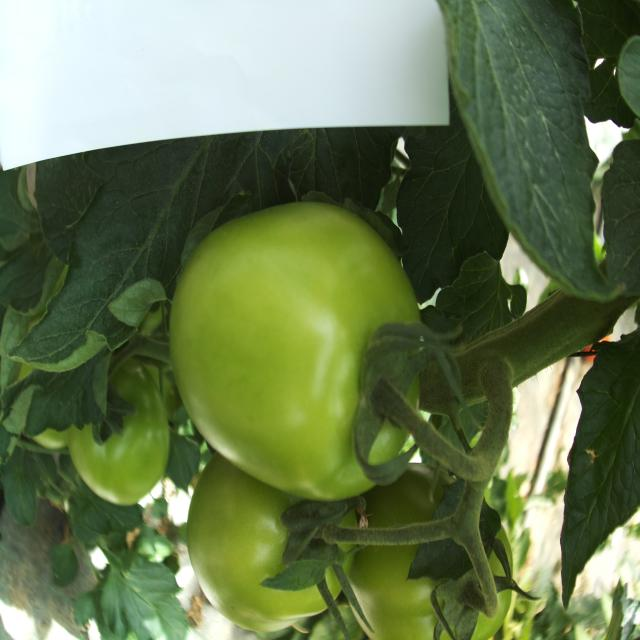yesil: (158, 202, 437, 507)
